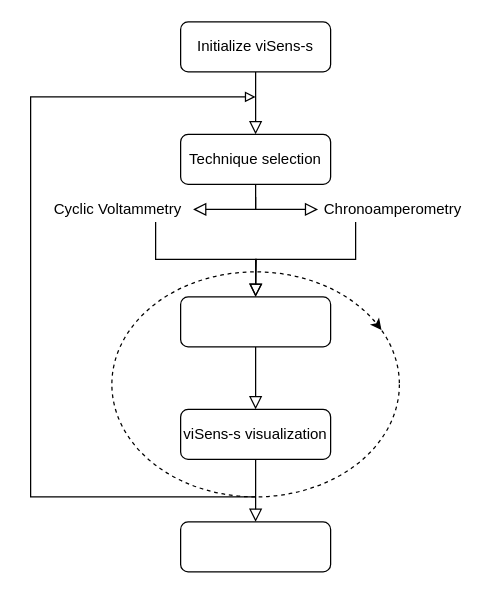
The diagram is 484 pixels wide and 594 high, and some of its shapes have lost their labels. Each missing label, with the centre of its shape:
End program: point 255,546
Measurement: point 255,321
